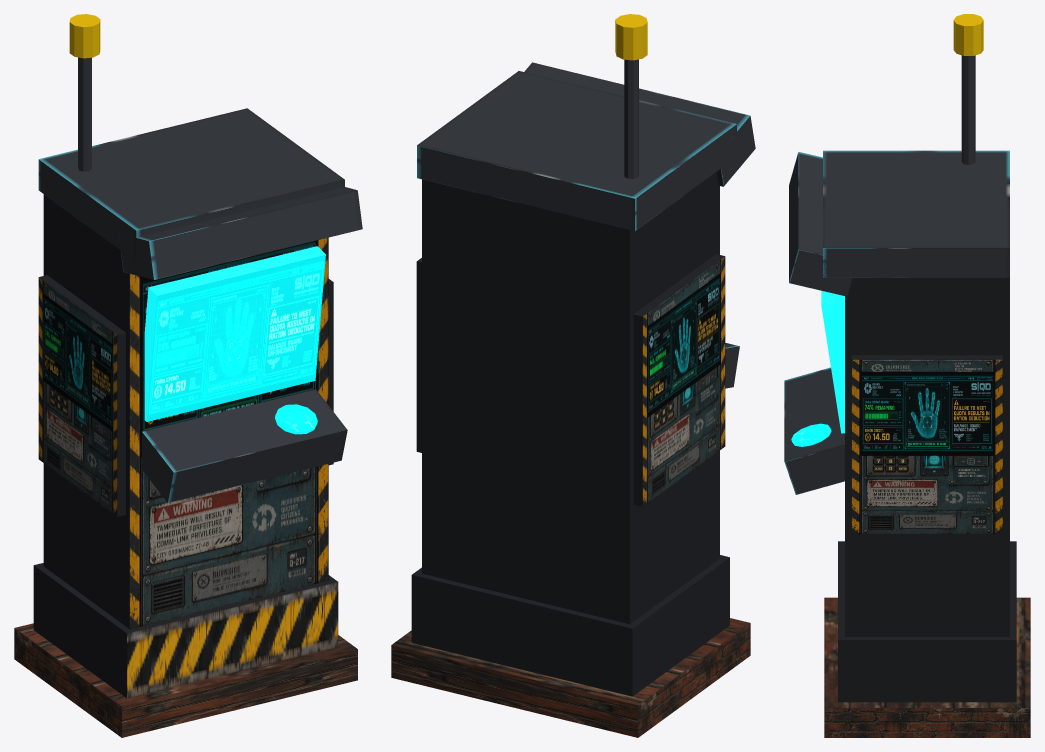
Rendered from prop_quota_kiosk.glb.
3 views of the same model, side by side, from view 1: azimuth 30°, elevation 25°; view 2: azimuth 150°, elevation 25°; view 3: azimuth 270°, elevation 25° (orthographic). The views are drawn at different scales.
Parts seen in each view (by area): view 1: PropQuotaKiosk_Mesh; view 2: PropQuotaKiosk_Mesh; view 3: PropQuotaKiosk_Mesh.
Boxes of the visible parts, x1,y1,x2,y2 form: PropQuotaKiosk_Mesh: (14, 14, 362, 737); PropQuotaKiosk_Mesh: (391, 14, 755, 737); PropQuotaKiosk_Mesh: (784, 14, 1030, 737).
Bounding box in the file's own units: 0.95 × 2.51 × 0.8951.
2 materials, 2 textured.
